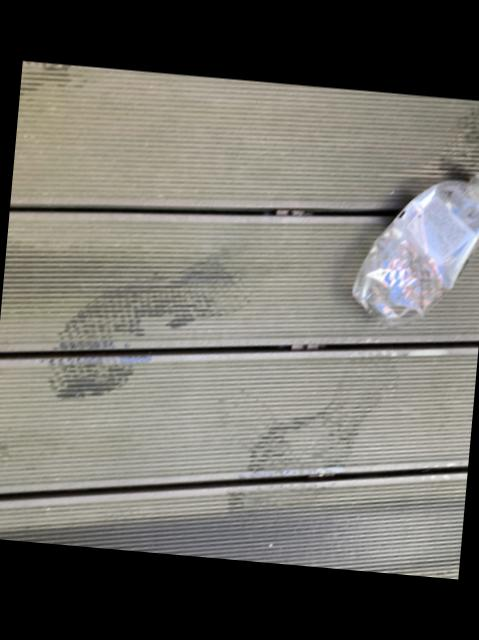plastic: (353, 171, 479, 323)
